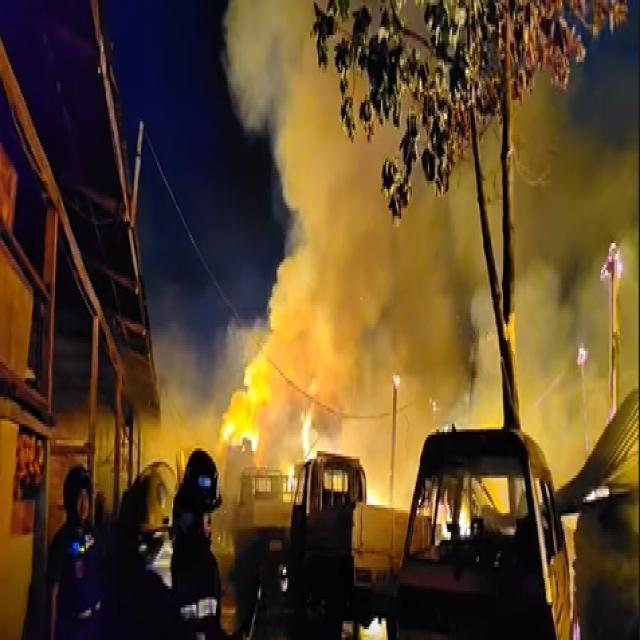Fire: (218, 344, 273, 468), (293, 405, 328, 473)
Smoke: (222, 0, 506, 518)
